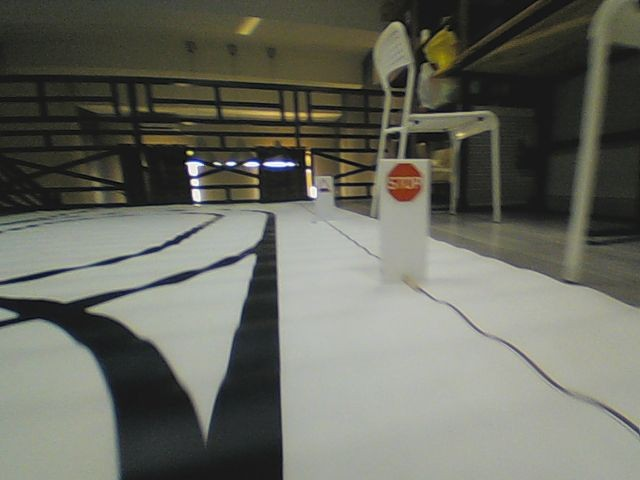Stop: (385, 161, 423, 202)
